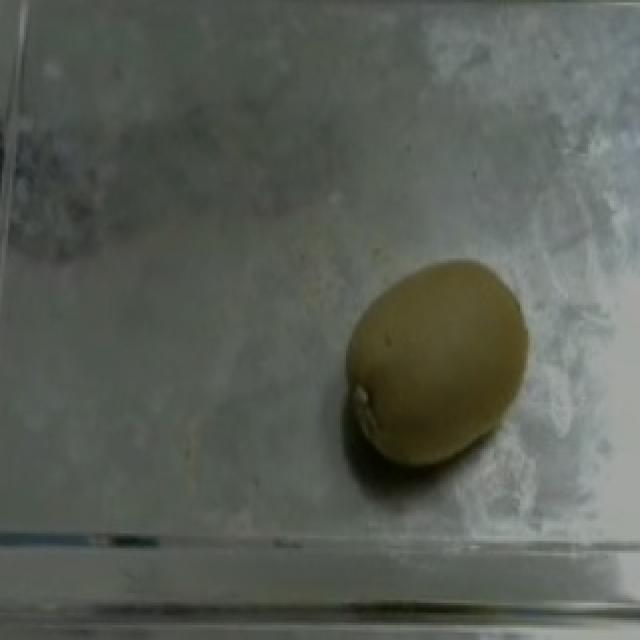Fruit: (334, 251, 542, 478)
